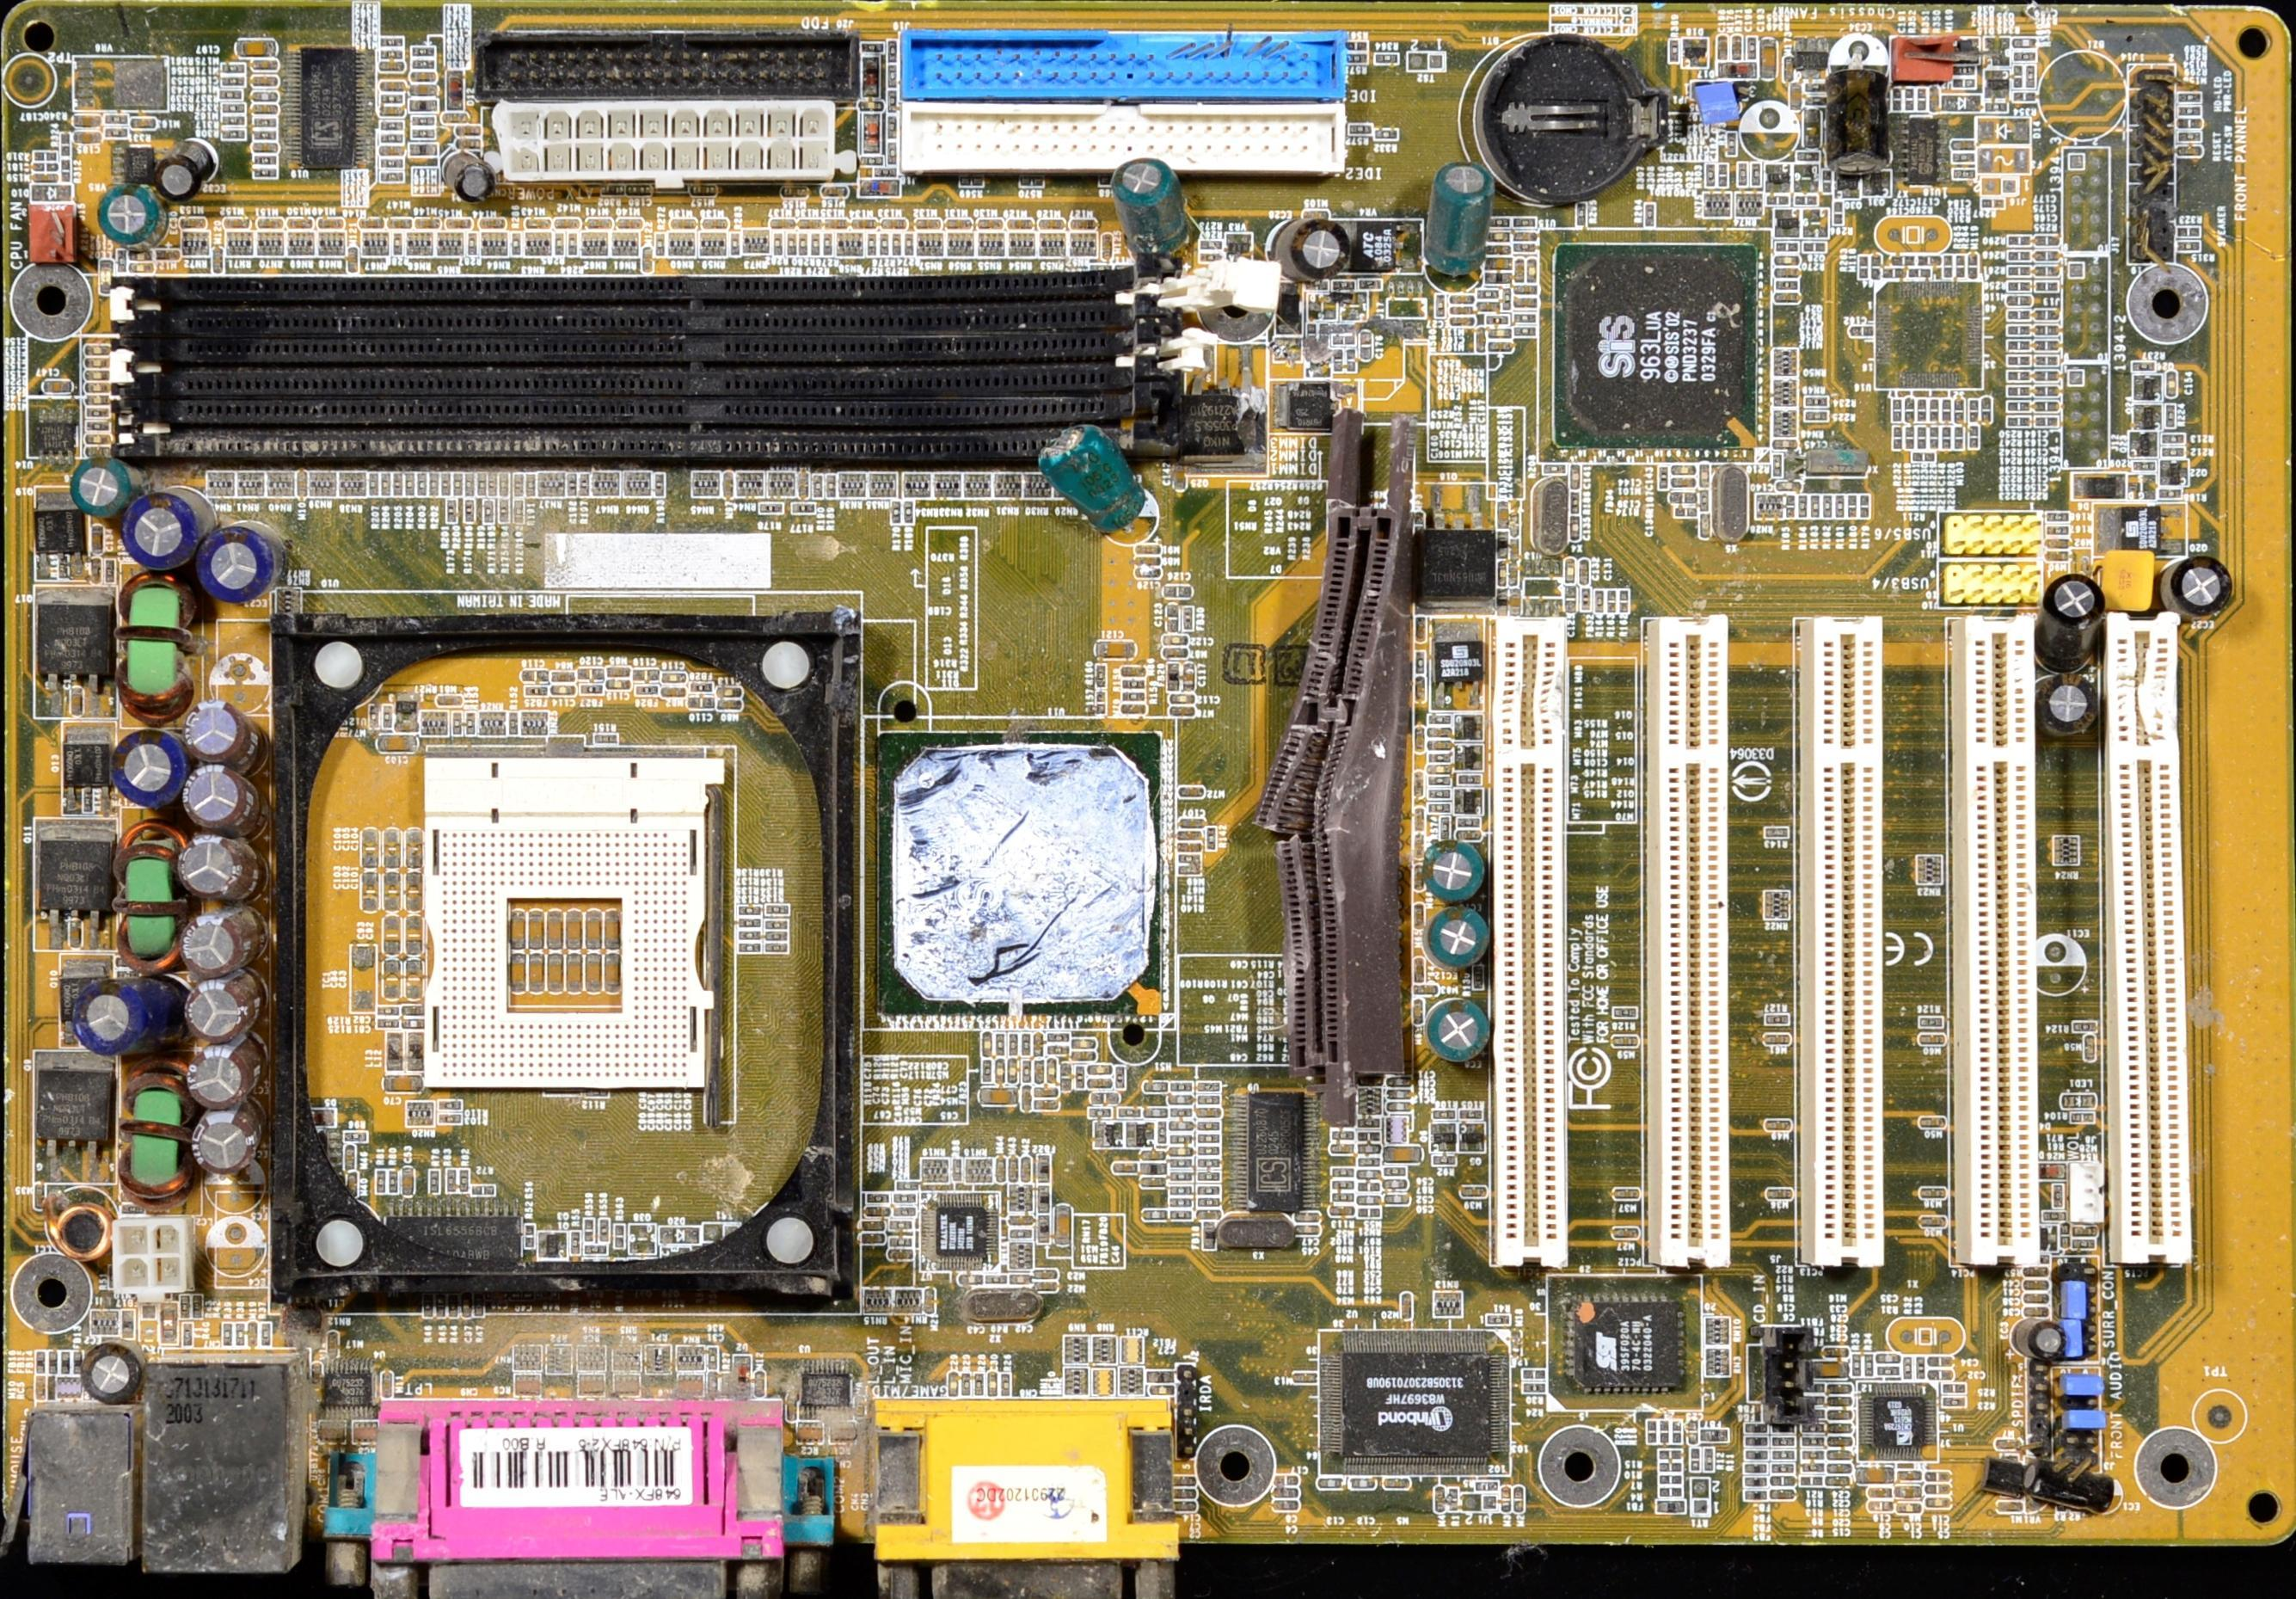Capacitor: (202, 520, 277, 616), (120, 492, 202, 571), (110, 731, 190, 808), (176, 831, 255, 901), (63, 461, 143, 529), (180, 698, 251, 768), (1425, 904, 1492, 976), (1427, 838, 1492, 906), (1427, 1000, 1493, 1061), (181, 768, 243, 829), (933, 1206, 994, 1255), (351, 943, 379, 1012), (234, 38, 281, 59), (375, 735, 422, 756), (380, 962, 401, 1002), (979, 1088, 1019, 1107), (407, 829, 426, 869), (384, 918, 403, 957), (363, 871, 380, 911), (386, 918, 403, 958), (363, 831, 380, 871), (407, 916, 422, 960), (407, 876, 424, 915), (386, 1075, 424, 1093), (1856, 1468, 1898, 1484), (1762, 40, 1778, 82), (1806, 112, 1821, 150), (386, 833, 401, 871), (389, 873, 403, 915), (1385, 1147, 1422, 1163), (40, 381, 75, 396), (1776, 253, 1804, 271), (403, 1168, 417, 1199), (1485, 258, 1514, 272), (253, 77, 283, 91), (73, 131, 101, 145), (1746, 33, 1760, 61), (1921, 1187, 1947, 1201), (1150, 1384, 1176, 1398), (1007, 1056, 1019, 1086), (133, 119, 162, 131), (2024, 1280, 2053, 1292), (1898, 1484, 1921, 1499), (75, 115, 103, 127), (708, 1348, 722, 1372), (1828, 1409, 1856, 1421), (1830, 1449, 1855, 1463), (1272, 1487, 1300, 1499), (1274, 1501, 1302, 1513), (255, 106, 281, 119), (253, 119, 279, 131), (1926, 1498, 1952, 1510), (1485, 244, 1511, 257), (1846, 494, 1858, 520), (1860, 496, 1872, 522), (1143, 1150, 1165, 1164), (1869, 1489, 1898, 1499), (1164, 635, 1193, 646), (377, 63, 407, 73), (1186, 663, 1197, 693), (1171, 695, 1200, 705), (1614, 1035, 1638, 1047), (1828, 1423, 1853, 1435), (1896, 1501, 1921, 1513), (1514, 297, 1539, 309), (1490, 342, 1514, 354), (412, 72, 436, 84), (1792, 84, 1802, 112), (1891, 87, 1902, 115), (1827, 1435, 1855, 1445), (1732, 37, 1745, 59), (1035, 1100, 1061, 1110), (1614, 1189, 1640, 1199), (2026, 1255, 2052, 1266), (949, 1372, 960, 1398), (1827, 1466, 1853, 1477), (1900, 1473, 1926, 1484), (1350, 1479, 1377, 1489), (1476, 1484, 1502, 1494), (1450, 1489, 1460, 1515), (1514, 258, 1525, 285), (1766, 1121, 1795, 1129), (2022, 1295, 2052, 1304), (2024, 1307, 2053, 1316), (1317, 1480, 1347, 1489), (249, 145, 279, 154), (251, 63, 281, 72), (380, 82, 410, 91), (982, 1032, 993, 1056), (1921, 1218, 1945, 1229), (987, 1372, 998, 1397), (1385, 1479, 1410, 1489), (1450, 305, 1474, 316), (1476, 330, 1486, 354), (1766, 1035, 1794, 1044), (1825, 1477, 1853, 1486), (1835, 202, 1844, 230), (1115, 1163, 1138, 1173), (1614, 1229, 1637, 1239), (1488, 330, 1511, 340), (412, 86, 438, 94), (253, 94, 279, 103), (2026, 1269, 2052, 1278), (1823, 1349, 1849, 1358), (1528, 260, 1537, 286), (1452, 318, 1478, 326), (1719, 37, 1727, 63), (2027, 65, 2036, 91), (1038, 1088, 1059, 1098), (1200, 1108, 1221, 1119), (1274, 1475, 1295, 1486), (1513, 1491, 1523, 1512), (1919, 1119, 1944, 1128), (1828, 1386, 1853, 1395), (1436, 1489, 1445, 1513), (1514, 286, 1539, 295), (1478, 304, 1502, 312), (2167, 374, 2176, 398), (1921, 1037, 1944, 1046), (1785, 59, 1794, 82), (1429, 765, 1452, 773), (996, 1060, 1003, 1088), (1828, 1400, 1856, 1407), (1821, 173, 1830, 194), (1488, 232, 1509, 241), (1513, 234, 1539, 241), (380, 148, 405, 155), (1450, 297, 1474, 304), (1769, 1189, 1801, 1194), (1776, 297, 1799, 304), (1504, 1489, 1509, 1512)
Connector: (2106, 614, 2200, 1273), (1949, 618, 2040, 1269), (1642, 616, 1731, 1273), (1795, 616, 1881, 1273), (117, 403, 1145, 456), (1492, 618, 1572, 1266), (106, 278, 1134, 323), (112, 325, 1141, 361), (119, 368, 1141, 398), (476, 33, 860, 101)
IC: (1553, 244, 1753, 452), (1335, 1348, 1509, 1468), (1561, 1292, 1691, 1397), (1232, 1091, 1319, 1211), (302, 47, 358, 169), (40, 602, 115, 679), (42, 841, 110, 916), (1870, 1395, 1926, 1456), (65, 744, 106, 787), (33, 417, 75, 459), (1101, 639, 1138, 658), (1056, 1204, 1069, 1243), (1139, 545, 1165, 557)
Resistor: (408, 1101, 436, 1129), (790, 501, 820, 517), (2083, 1033, 2097, 1067), (757, 501, 783, 517), (447, 499, 461, 527), (1387, 1192, 1411, 1208), (865, 1206, 892, 1220), (482, 499, 495, 525), (890, 499, 904, 525), (342, 1131, 372, 1143), (499, 498, 511, 527), (1903, 89, 1917, 113), (1073, 1051, 1097, 1065), (1171, 1121, 1199, 1133), (1801, 1397, 1828, 1409), (2013, 40, 2038, 54), (1670, 494, 1698, 506), (1411, 772, 1424, 800), (1169, 1184, 1195, 1196), (223, 1321, 236, 1348), (2177, 131, 2204, 143), (1659, 1421, 1671, 1447), (1659, 1473, 1685, 1486), (1774, 243, 1801, 255), (2034, 326, 2060, 339), (2034, 342, 2060, 354), (368, 471, 380, 498), (464, 499, 476, 525), (1375, 54, 1401, 66), (382, 119, 405, 133), (412, 126, 434, 140), (1774, 1447, 1797, 1461), (1413, 904, 1424, 934), (222, 101, 246, 113), (379, 106, 403, 119), (1118, 1108, 1143, 1121), (1197, 1159, 1221, 1171), (377, 1171, 389, 1196), (867, 1194, 892, 1206), (890, 1250, 914, 1262), (1523, 1369, 1548, 1381), (1928, 1370, 1952, 1383), (1671, 1423, 1684, 1447), (1659, 1451, 1684, 1463), (1952, 152, 1977, 164), (1795, 196, 1820, 208), (1956, 257, 1968, 281), (1806, 396, 1830, 408), (1806, 412, 1830, 424), (380, 473, 393, 498), (567, 473, 579, 498), (2158, 487, 2183, 499), (1429, 775, 1453, 787), (1146, 1081, 1167, 1095), (1387, 1091, 1415, 1101), (1008, 1157, 1019, 1185), (996, 1157, 1007, 1185), (1167, 1175, 1195, 1185), (925, 1288, 935, 1316), (1148, 1372, 1176, 1383), (2006, 326, 2034, 337), (2034, 372, 2062, 382), (513, 499, 523, 527), (905, 499, 916, 527), (1413, 726, 1424, 754), (1019, 1035, 1031, 1058), (1174, 1489, 1197, 1501), (1699, 466, 1712, 489), (220, 89, 246, 100), (2176, 93, 2202, 103), (1614, 1007, 1640, 1018), (996, 1033, 1007, 1060), (1047, 1060, 1057, 1086), (1117, 1065, 1127, 1091), (1092, 1095, 1118, 1105), (1171, 1095, 1197, 1105), (1387, 1103, 1413, 1114), (1169, 1108, 1195, 1119), (1169, 1135, 1195, 1145), (1169, 1149, 1195, 1159), (1197, 1185, 1223, 1196), (890, 1222, 916, 1232), (862, 1224, 888, 1234), (2073, 1227, 2099, 1238), (236, 1323, 246, 1349), (1687, 1423, 1698, 1449), (2179, 147, 2205, 157), (253, 157, 279, 168), (1752, 164, 1762, 190), (1513, 244, 1539, 255), (1860, 257, 1870, 283), (2006, 297, 2033, 307), (2006, 374, 2033, 384), (1954, 400, 1965, 426), (1942, 426, 1952, 452), (2160, 435, 2186, 445), (407, 473, 417, 499), (394, 473, 405, 499), (581, 473, 591, 499), (525, 473, 536, 499), (1429, 714, 1455, 724), (1179, 787, 1206, 798), (2179, 119, 2209, 127), (2162, 449, 2191, 457), (1806, 82, 1827, 94), (1415, 986, 1439, 997), (1766, 1016, 1787, 1028), (1921, 1018, 1945, 1028), (1047, 1046, 1071, 1056), (982, 1058, 993, 1082), (1171, 1081, 1195, 1091), (2071, 1112, 2095, 1122), (1199, 1145, 1220, 1157), (1432, 1157, 1457, 1168), (1169, 1161, 1193, 1171), (1197, 1173, 1221, 1184), (389, 1170, 400, 1194), (1357, 1182, 1382, 1192), (222, 115, 246, 126), (1357, 1208, 1382, 1218), (893, 1208, 918, 1218), (890, 1238, 914, 1248), (262, 1323, 272, 1348), (1863, 1353, 1874, 1377), (1916, 1360, 1928, 1381), (961, 1374, 972, 1398), (1802, 1426, 1827, 1437), (1954, 171, 1978, 182), (1720, 166, 1731, 190), (1645, 204, 1656, 229), (1930, 428, 1940, 452), (417, 473, 427, 498), (429, 473, 440, 498), (2047, 552, 2071, 562), (1565, 588, 1575, 613), (1427, 730, 1452, 740), (1181, 819, 1206, 829), (1178, 845, 1202, 855), (1415, 957, 1424, 985), (1022, 1086, 1031, 1114), (1577, 204, 1586, 232), (1806, 96, 1828, 106), (2073, 1021, 2095, 1032), (1007, 1035, 1017, 1058), (1035, 1061, 1045, 1084), (1089, 1079, 1111, 1089), (1199, 1095, 1221, 1105), (1199, 1121, 1221, 1131), (1197, 1135, 1220, 1145), (1331, 1168, 1354, 1178), (2053, 1185, 2064, 1208), (864, 1236, 886, 1246), (2073, 1239, 2095, 1250), (106, 129, 129, 140), (1876, 1367, 1898, 1377), (1001, 1374, 1012, 1397), (974, 1376, 984, 1398), (1802, 1410, 1825, 1421), (1172, 1477, 1195, 1487), (1872, 258, 1883, 281), (2034, 311, 2057, 321), (1514, 328, 1537, 339), (1930, 401, 1940, 424), (1673, 468, 1696, 478), (1835, 496, 1846, 518), (1799, 498, 1809, 520), (2047, 511, 2069, 522), (1607, 590, 1617, 613), (1621, 592, 1631, 614), (1415, 810, 1425, 833), (1413, 999, 1422, 1025), (1063, 1067, 1071, 1093), (1022, 1156, 1031, 1182), (1942, 1384, 1968, 1393), (1659, 1463, 1685, 1472), (379, 159, 405, 168), (1945, 255, 1954, 281), (2132, 463, 2158, 471), (1699, 515, 1708, 541), (1033, 1035, 1043, 1056), (1146, 1108, 1167, 1119), (1333, 1191, 1354, 1201), (895, 1194, 916, 1204), (1523, 1384, 1544, 1395), (1774, 1426, 1795, 1437), (1804, 1438, 1825, 1449), (1176, 1501, 1197, 1512), (1698, 492, 1708, 513), (1076, 1067, 1089, 1084), (1197, 1082, 1221, 1091), (953, 1159, 961, 1184), (1357, 1170, 1382, 1178), (1141, 1178, 1165, 1187), (1385, 1180, 1410, 1189), (412, 115, 436, 124), (105, 115, 129, 124), (1649, 1421, 1657, 1445), (1952, 141, 1977, 150), (1739, 164, 1748, 189), (1767, 197, 1792, 206), (1436, 295, 1445, 319), (2008, 358, 2033, 367), (1919, 400, 1928, 424), (2013, 54, 2038, 63), (412, 59, 436, 68), (2013, 66, 2022, 91), (1179, 833, 1204, 841), (1806, 1384, 1825, 1395), (1919, 89, 1928, 112), (1022, 1061, 1031, 1084), (1389, 1079, 1411, 1088), (2177, 108, 2200, 117), (1359, 1159, 1382, 1168), (1384, 1170, 1406, 1178), (2060, 1225, 2069, 1248), (987, 1276, 1010, 1285), (1745, 1451, 1767, 1459), (1745, 1468, 1767, 1477), (1706, 166, 1715, 189), (1514, 314, 1537, 323), (1905, 428, 1914, 450), (380, 49, 403, 58), (1429, 744, 1452, 752), (1429, 754, 1452, 763), (1429, 791, 1452, 800), (1179, 868, 1207, 875), (960, 1274, 987, 1281), (2047, 541, 2074, 548), (1415, 864, 1422, 890), (1089, 1110, 1115, 1117), (1905, 1358, 1914, 1379), (1746, 1426, 1767, 1435), (1806, 244, 1827, 253), (1954, 428, 1963, 449), (413, 47, 434, 56), (1209, 829, 1218, 850), (1774, 1437, 1807, 1442), (996, 1060, 1003, 1084), (1746, 1480, 1771, 1487), (1567, 560, 1574, 585), (1427, 806, 1452, 813), (1417, 834, 1424, 859), (1035, 1283, 1057, 1290), (1746, 1438, 1769, 1445), (1692, 1449, 1699, 1472), (1075, 1040, 1096, 1047), (1092, 1067, 1113, 1074), (1012, 1276, 1033, 1283), (1811, 498, 1818, 518), (1598, 590, 1605, 611), (1179, 855, 1200, 862), (253, 134, 277, 140), (1047, 1035, 1069, 1040), (2043, 1213, 2074, 1217), (1773, 1479, 1794, 1484), (1158, 1124, 1164, 1143), (1035, 1274, 1057, 1278)
Transistor: (2094, 504, 2188, 559), (384, 1035, 407, 1072), (407, 1035, 424, 1072)
